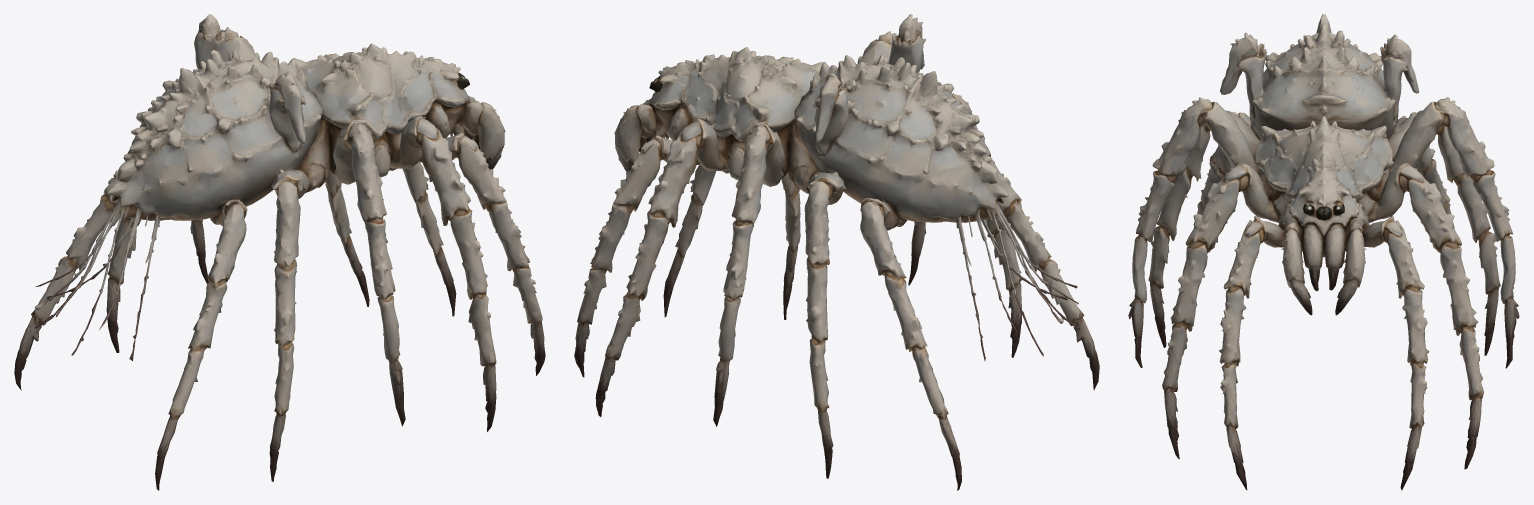
Rendered from SilkSpider-tripo.glb.
3 views of the same model, side by side, from view 1: azimuth 30°, elevation 25°; view 2: azimuth 150°, elevation 25°; view 3: azimuth 270°, elevation 25° (orthographic). The views are drawn at different scales.
Visible parts, largest first — view 1: tripo_node_02861b48-fd77-46cd-a012-20003d02f32e; view 2: tripo_node_02861b48-fd77-46cd-a012-20003d02f32e; view 3: tripo_node_02861b48-fd77-46cd-a012-20003d02f32e.
Part boxes in pixels (x1,y1,x2,y2): tripo_node_02861b48-fd77-46cd-a012-20003d02f32e: [14, 14, 545, 490]; tripo_node_02861b48-fd77-46cd-a012-20003d02f32e: [574, 14, 1099, 490]; tripo_node_02861b48-fd77-46cd-a012-20003d02f32e: [1128, 14, 1519, 490].
Size of the model in its own units: 1 by 0.7836 by 0.7892.
Materials: 1 (1 with a texture image).
